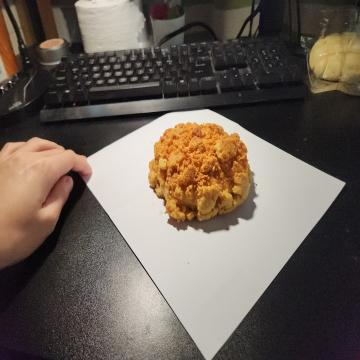soboru_bread: (151, 120, 251, 224)
